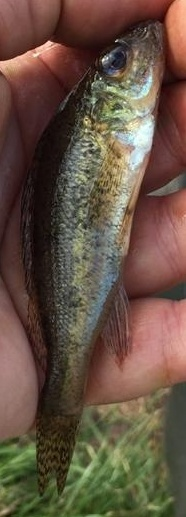Gymnocephalus cernuus: (20, 20, 166, 497)
